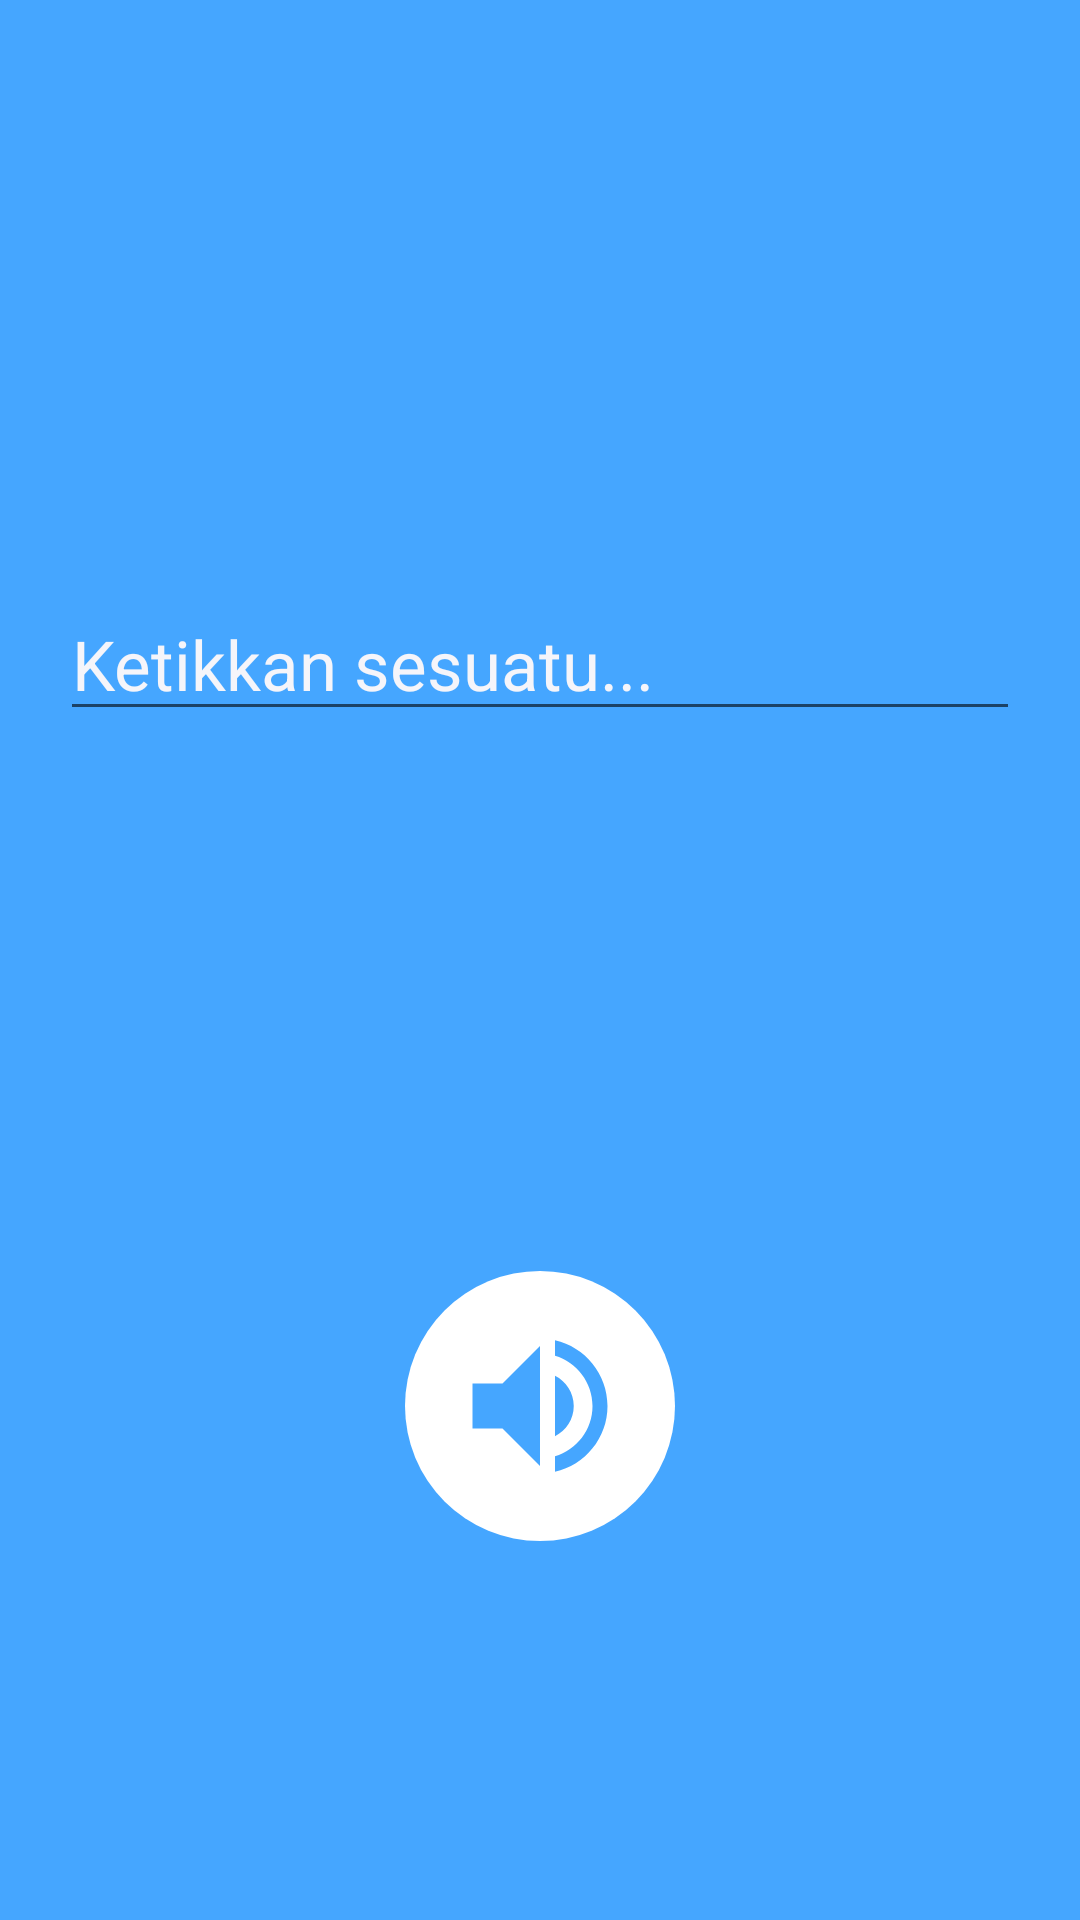

Named icons in this screenshot (1080x1920) and their bounding boxes, detection(x1, y1, x2, y2):
volume up: detection(472, 1340, 608, 1472)
